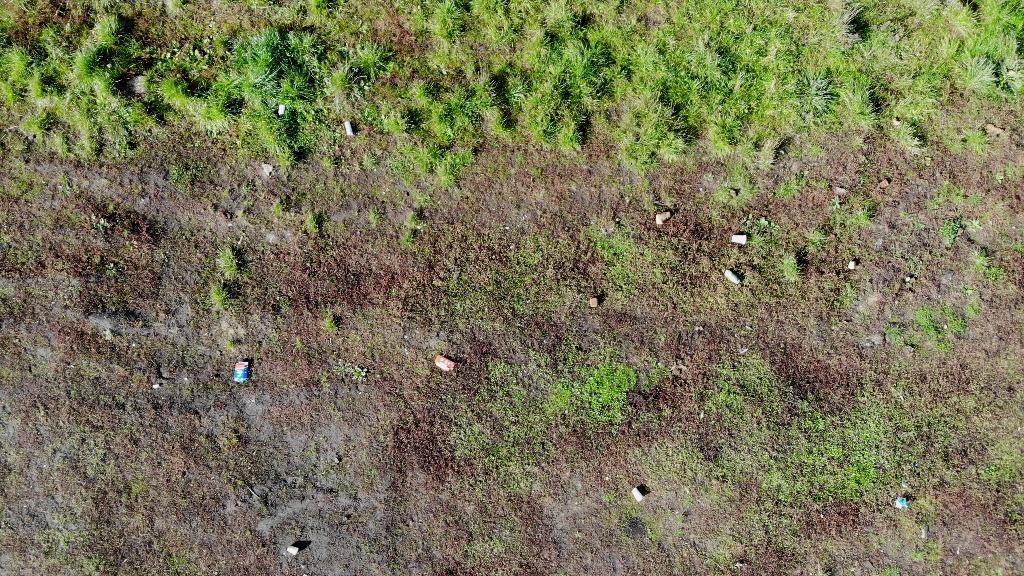garbage: (431, 351, 459, 377), (231, 357, 251, 391), (720, 264, 743, 289), (433, 354, 457, 372), (233, 361, 248, 384), (731, 230, 749, 248), (723, 269, 742, 286), (655, 211, 673, 226), (630, 487, 644, 503), (731, 233, 747, 247), (893, 496, 906, 510), (343, 120, 354, 136), (285, 545, 299, 556), (589, 295, 599, 308), (846, 260, 855, 271), (891, 117, 903, 124), (277, 105, 286, 114), (150, 383, 160, 390), (403, 347, 409, 355), (130, 342, 136, 347), (402, 335, 407, 341), (183, 378, 188, 382)
